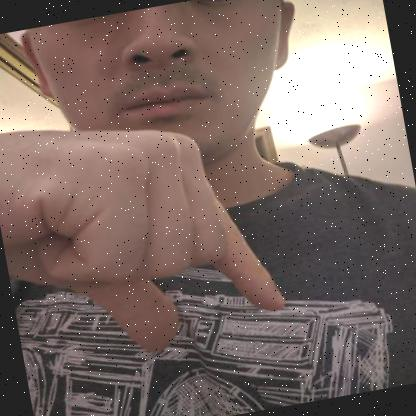Q: (0, 129, 285, 353)
